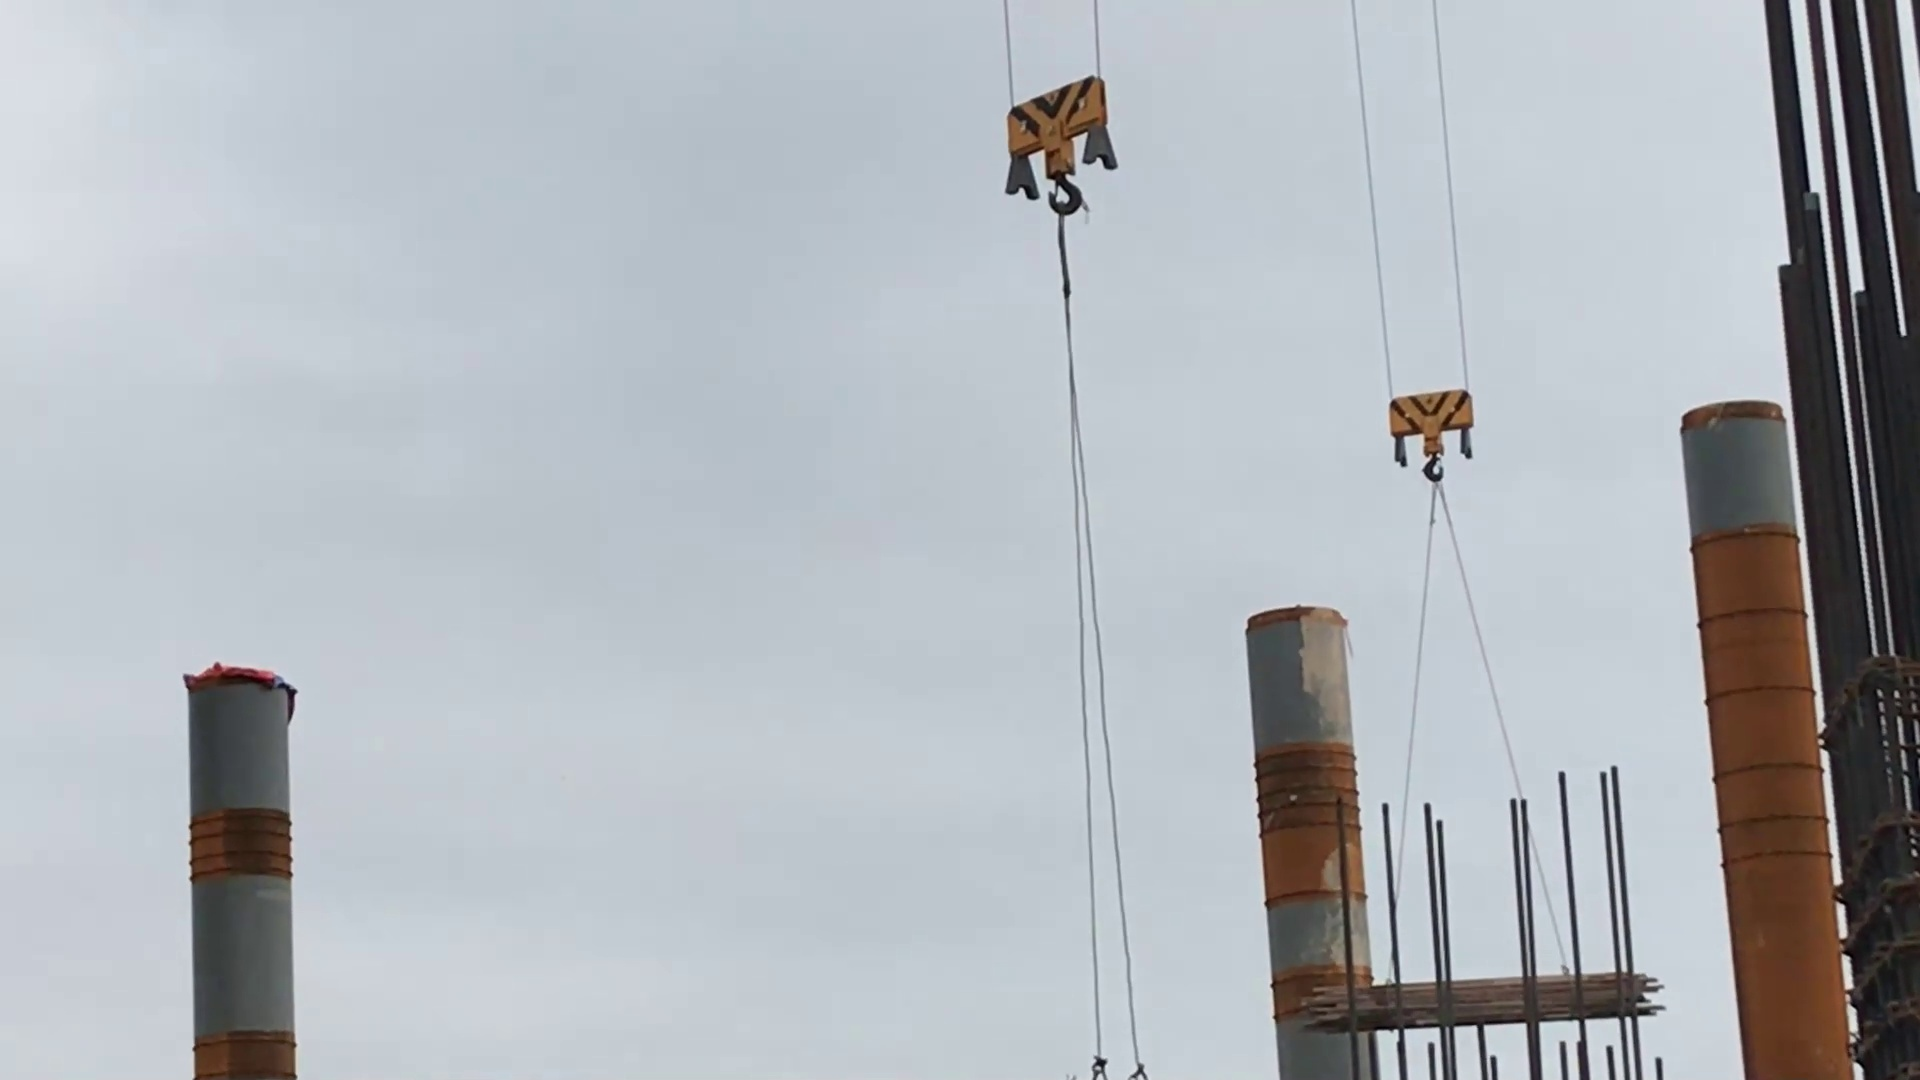hook: (1004, 71, 1118, 227), (1381, 385, 1481, 502)
wood: (1291, 967, 1683, 1046)
